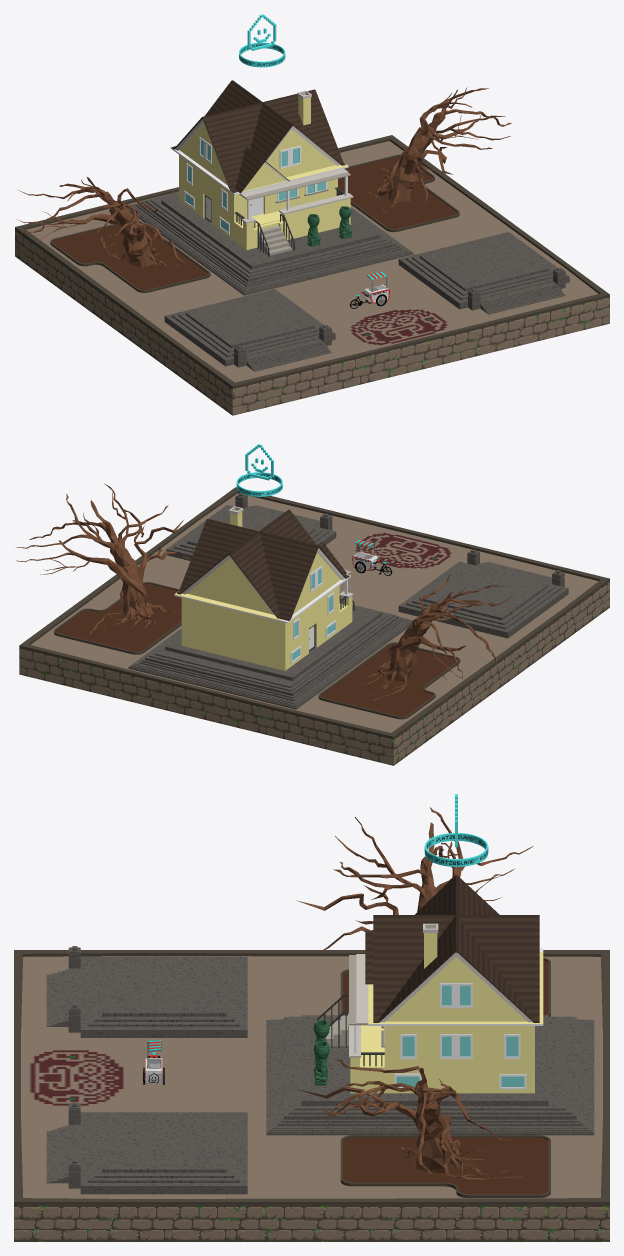
The picture shows the model from 3 angles, top to bottom: view 1: azimuth 30°, elevation 25°; view 2: azimuth 150°, elevation 25°; view 3: azimuth 270°, elevation 25°; orthographic projection. The views are drawn at different scales.
Visible parts, largest first — view 1: Cube.011, Cube.1555, TYPE_PREMIUM, VEHICLES_SNOWBAL_BIKE; view 2: Cube.011, Cube.1555, TYPE_PREMIUM, VEHICLES_SNOWBAL_BIKE; view 3: Cube.011, Cube.1555, TYPE_PREMIUM, VEHICLES_SNOWBAL_BIKE.
Part boxes in pixels (x1,y1,x2,y2): Cube.011: (15, 87, 609, 415); Cube.1555: (170, 80, 353, 256); TYPE_PREMIUM: (239, 14, 285, 67); VEHICLES_SNOWBAL_BIKE: (349, 271, 389, 308); Cube.011: (16, 483, 609, 765); Cube.1555: (174, 506, 354, 670); TYPE_PREMIUM: (236, 444, 282, 496); VEHICLES_SNOWBAL_BIKE: (352, 540, 392, 575); Cube.011: (14, 807, 609, 1241); Cube.1555: (317, 875, 543, 1093); TYPE_PREMIUM: (424, 794, 488, 866); VEHICLES_SNOWBAL_BIKE: (142, 1040, 165, 1084).
Bounding box in the file's own units: 5099 × 2483 × 4000.
Materials: 30 (6 with a texture image).
